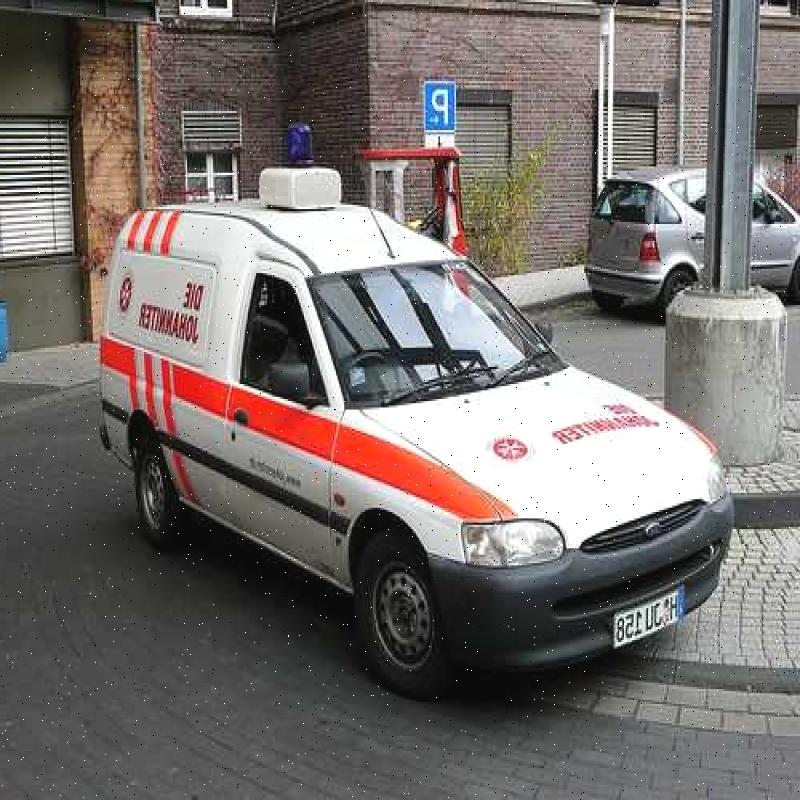AmbulanceSiren: (240, 114, 345, 227)
